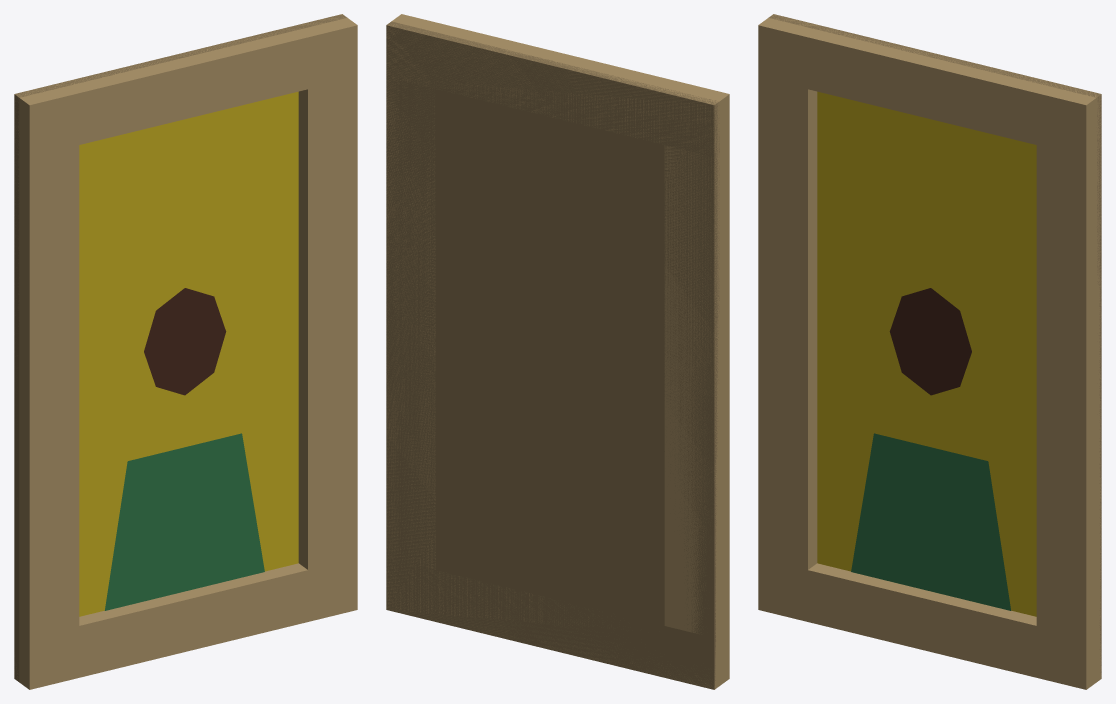
File: picture-frame-48.glb
The picture shows the model from 3 angles, left to right: view 1: azimuth 30°, elevation 25°; view 2: azimuth 150°, elevation 25°; view 3: azimuth 330°, elevation 25°; orthographic projection.
Parts seen in each view (by area): view 1: picture_frame_48; view 2: picture_frame_48; view 3: picture_frame_48.
Boxes of the visible parts, <box> form: picture_frame_48: <box>14,14,357,689</box>; picture_frame_48: <box>386,14,729,689</box>; picture_frame_48: <box>758,14,1101,689</box>.
Bounding box in the file's own units: 0.4364 × 0.743 × 0.0354.
